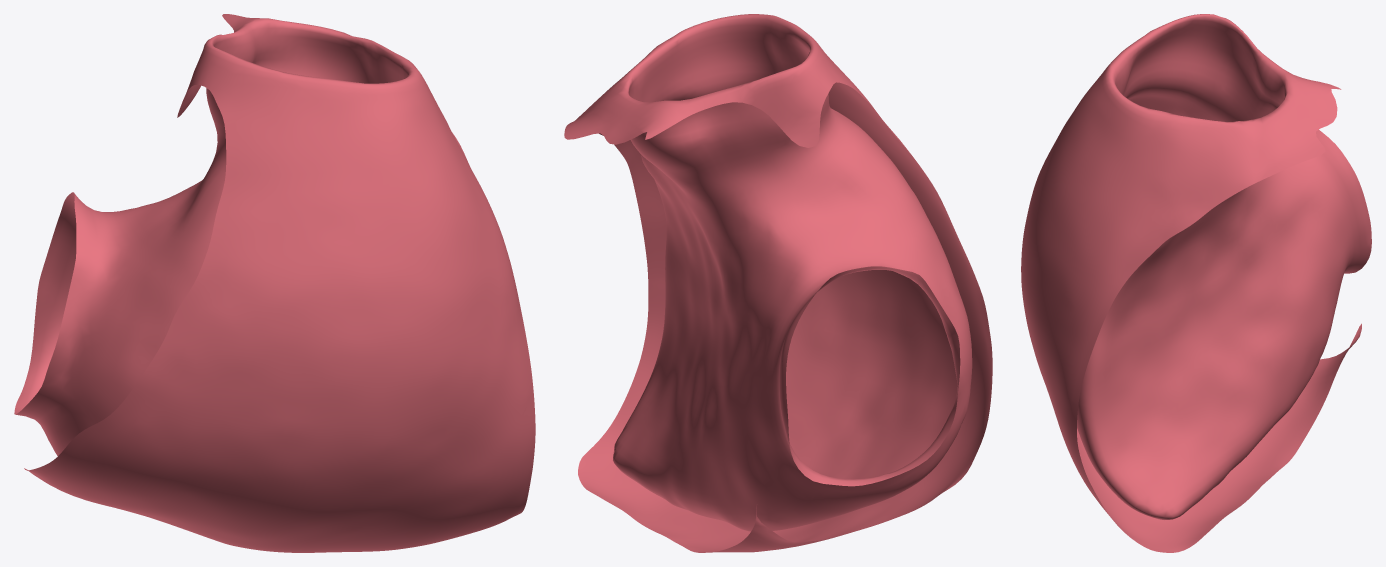
3 views of the same model, side by side, from view 1: azimuth 30°, elevation 25°; view 2: azimuth 150°, elevation 25°; view 3: azimuth 270°, elevation 25° (orthographic). The views are drawn at different scales.
Visible parts, largest first — view 1: ZA_e1c2f695621baf7b; view 2: ZA_e1c2f695621baf7b; view 3: ZA_e1c2f695621baf7b.
Part boxes in pixels (bbox=[...]): ZA_e1c2f695621baf7b: bbox=[14, 14, 535, 552]; ZA_e1c2f695621baf7b: bbox=[564, 14, 992, 552]; ZA_e1c2f695621baf7b: bbox=[1021, 14, 1371, 552].
Bounding box in the file's own units: 0.0826 × 0.0924 × 0.067.
